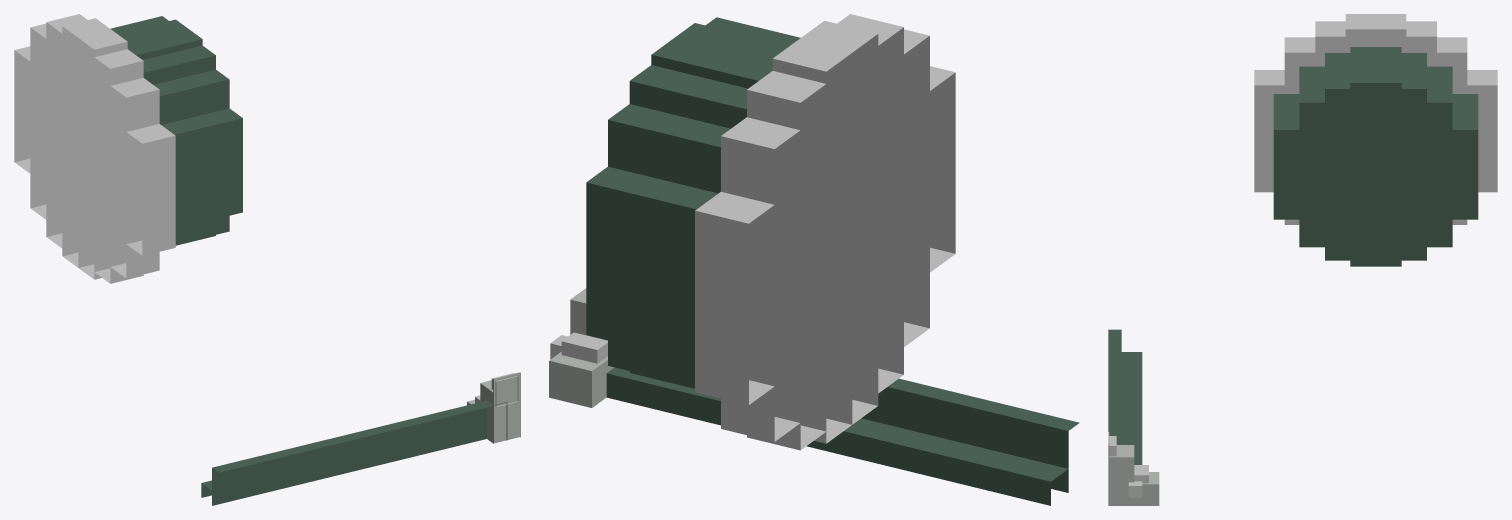
The model's file is cell_19.obj.
3 renders of one model, left to right at view 1: azimuth 30°, elevation 25°; view 2: azimuth 150°, elevation 25°; view 3: azimuth 270°, elevation 25°, orthographic. The views are drawn at different scales.
Size of the model in its own units: 0.8734 by 0.9975 by 1.
